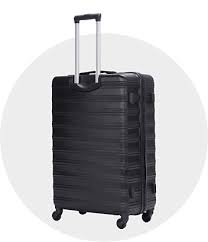suitcase: (48, 13, 161, 229)
